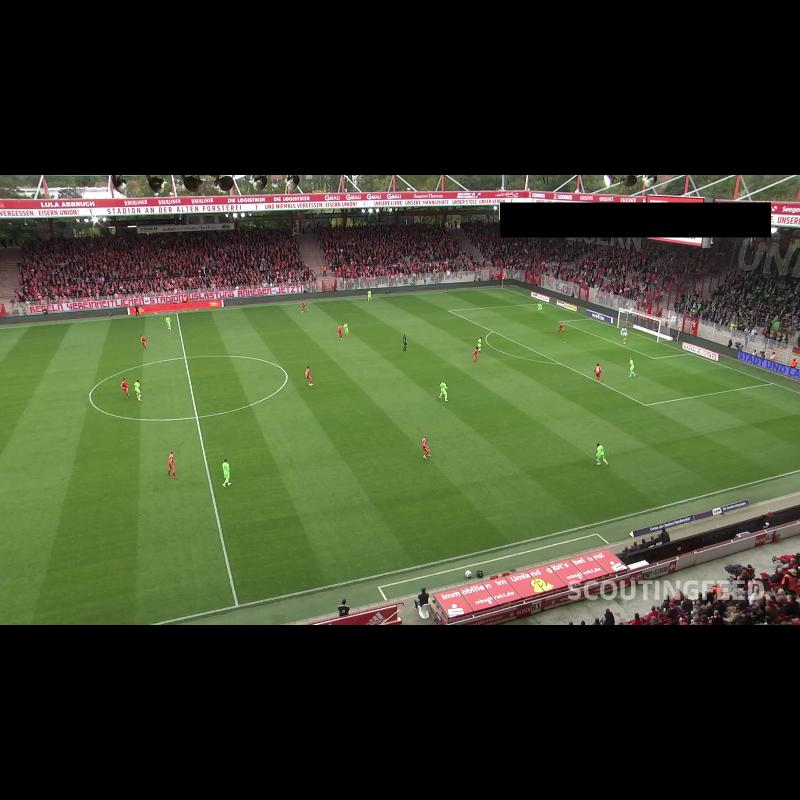cross_recipient_zone: (449, 303, 773, 405)
crossing_player_zone: (541, 383, 800, 507), (346, 288, 546, 317)
pitch: (0, 288, 800, 625)
